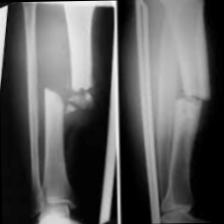comminuted-fracture: (11, 0, 220, 224)
